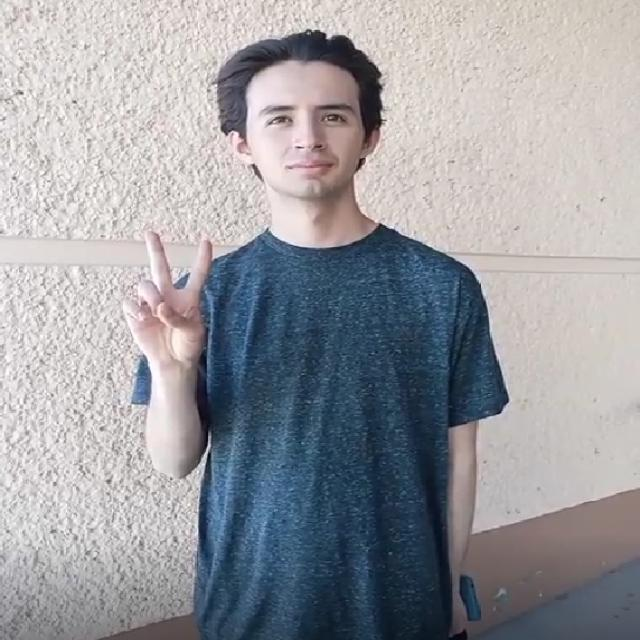V: (121, 227, 224, 385)
